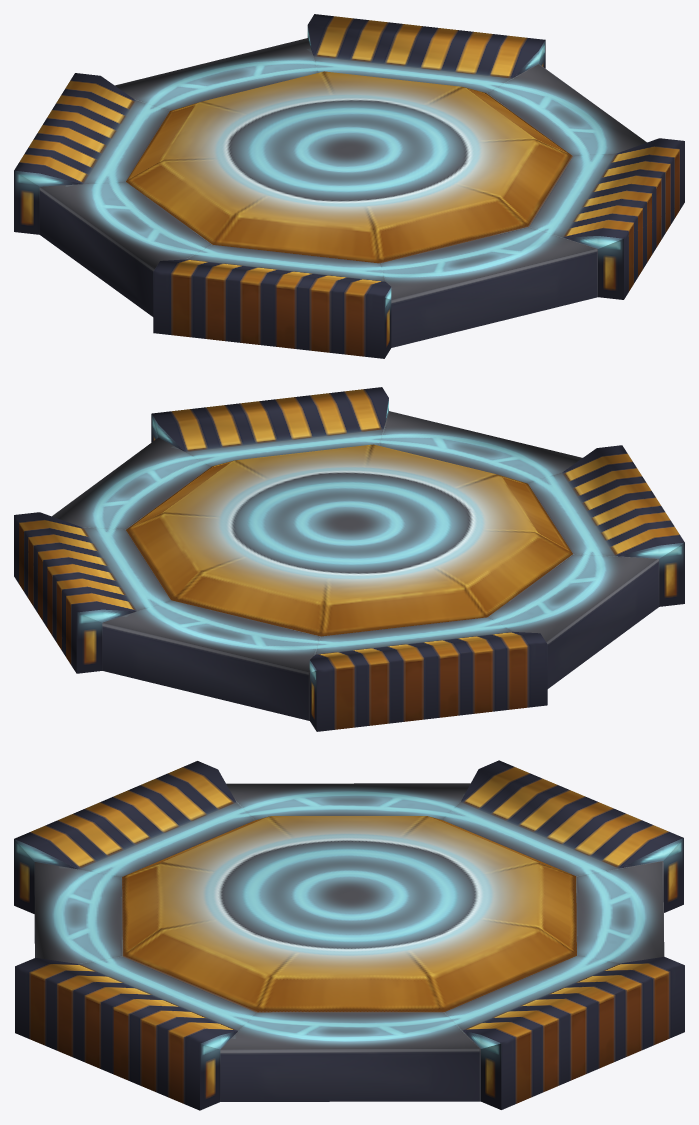
File: PK_model_chuanyueqi.FBX
3 views of the same model, one above another, from view 1: azimuth 30°, elevation 25°; view 2: azimuth 150°, elevation 25°; view 3: azimuth 270°, elevation 25° (orthographic). The views are drawn at different scales.
Parts seen in each view (by area): view 1: Cylinder001; view 2: Cylinder001; view 3: Cylinder001.
Part boxes in pixels (<box>): Cylinder001: <box>14,14,684,358</box>; Cylinder001: <box>14,387,684,731</box>; Cylinder001: <box>14,760,684,1110</box>.
Size of the model in its own units: 151 by 18.17 by 151.
Materials: 1 (1 with a texture image).
